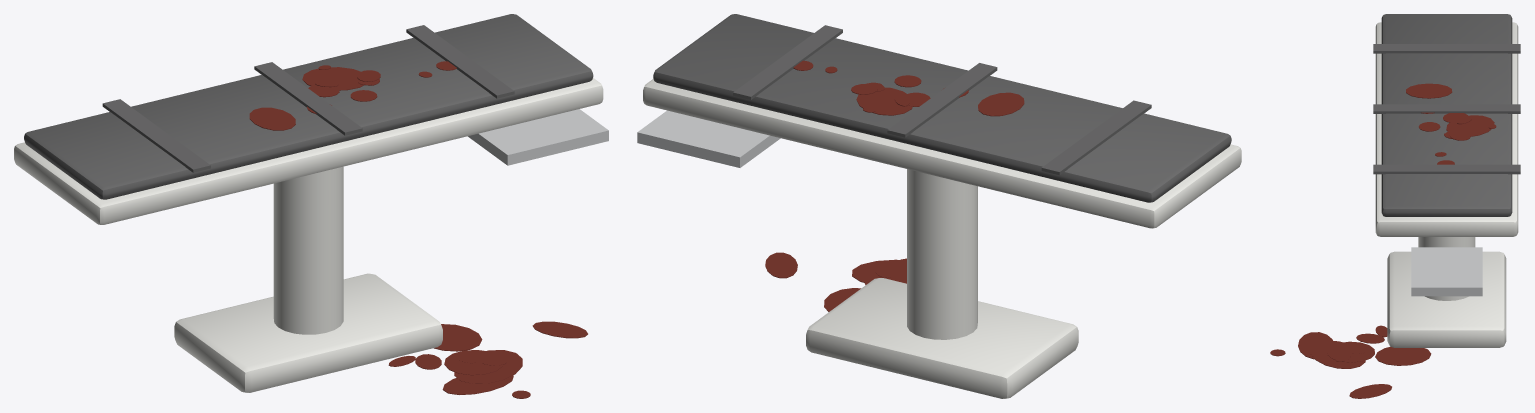
Rendered from operating_table.glb.
3 renders of one model, left to right at view 1: azimuth 30°, elevation 25°; view 2: azimuth 150°, elevation 25°; view 3: azimuth 270°, elevation 25°, orthographic. The views are drawn at different scales.
Visible parts, largest first — view 1: operating_table; view 2: operating_table; view 3: operating_table.
Part boxes in pixels (x1,y1,x2,y2): operating_table: (14,14,608,398); operating_table: (637,14,1241,398); operating_table: (1270,14,1520,398).
Size of what is drawn, in the model's own units: 2.1 by 0.941 by 1.05.
